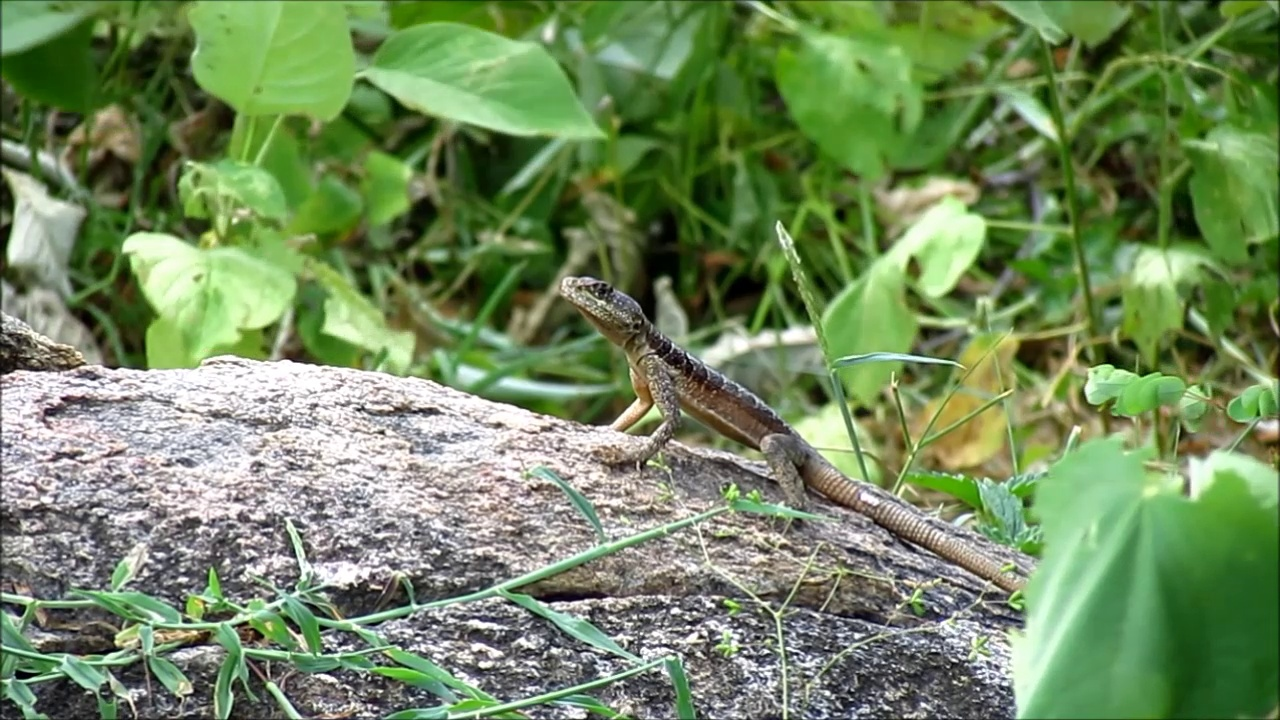body: (600, 319, 1024, 592)
head: (560, 276, 647, 340)
